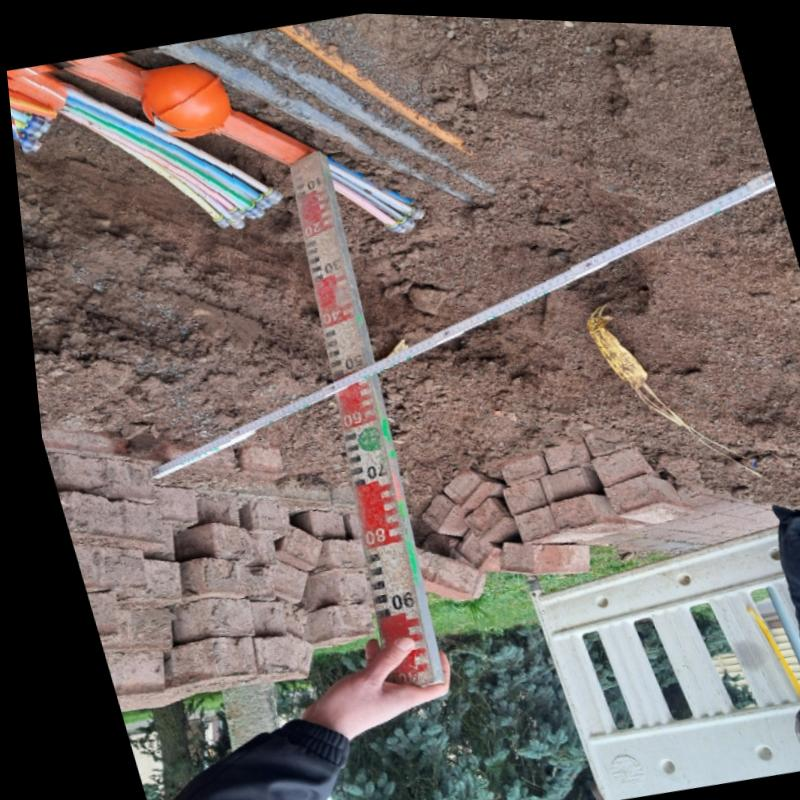Kugelmarker: (143, 61, 229, 129)
Orang-Speednetrohrchen: (6, 70, 280, 228), (217, 109, 414, 231)
